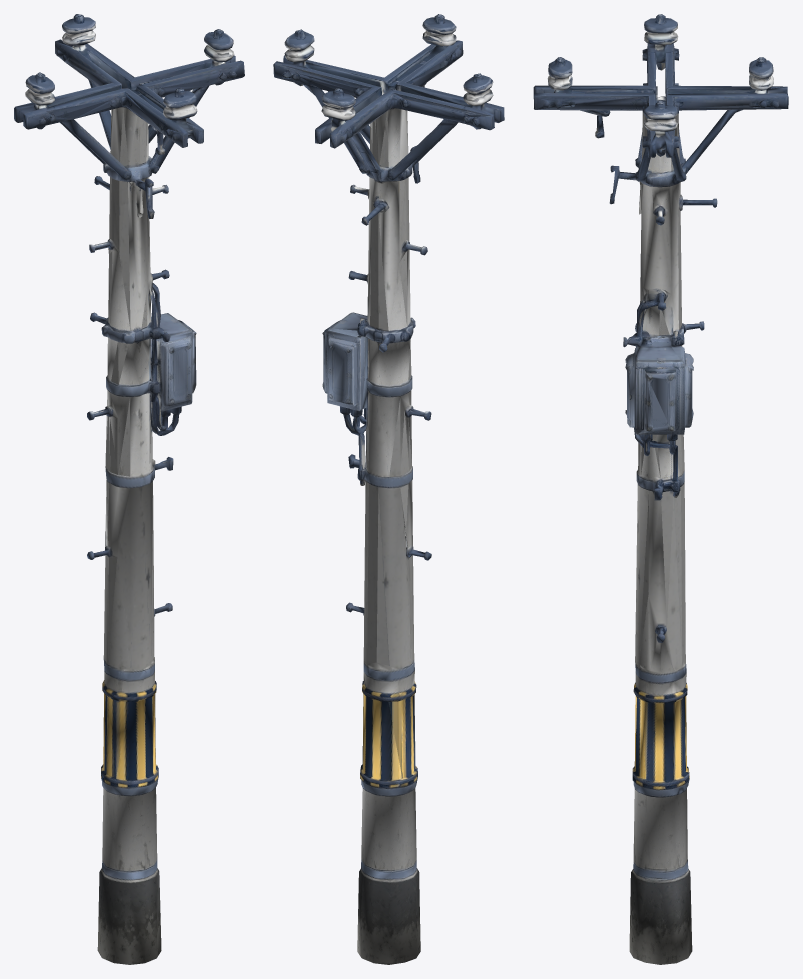
The model's file is PRP_Utility_Pole_A.glb.
3 renders of one model, left to right at view 1: azimuth 30°, elevation 25°; view 2: azimuth 150°, elevation 25°; view 3: azimuth 270°, elevation 25°, orthographic.
Parts seen in each view (by area): view 1: Mesh_0; view 2: Mesh_0; view 3: Mesh_0.
Boxes of the visible parts, x1,y1,x2,y2 form: Mesh_0: [14, 14, 244, 964]; Mesh_0: [273, 14, 504, 964]; Mesh_0: [533, 14, 788, 964].
Size of the model in its own units: 2.16 by 8.5 by 2.2.
Materials: 1 (1 with a texture image).
